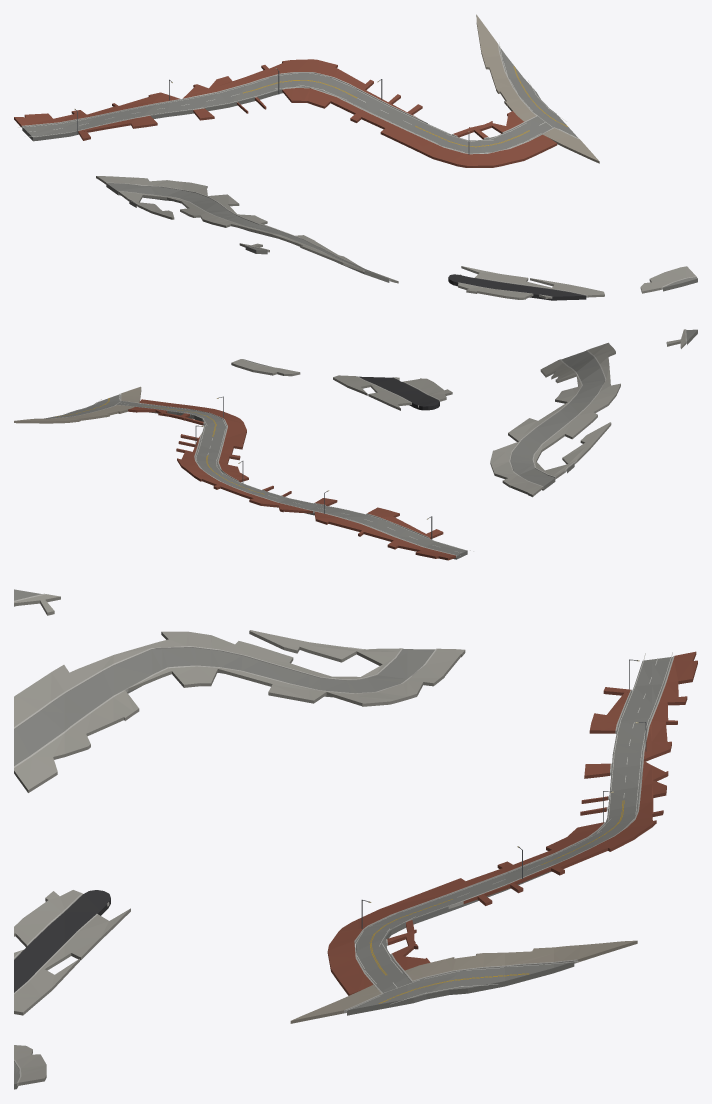
The picture shows the model from 3 angles, top to bottom: view 1: azimuth 30°, elevation 25°; view 2: azimuth 150°, elevation 25°; view 3: azimuth 270°, elevation 25°; orthographic projection. The views are drawn at different scales.
Size of the model in its own units: 150 by 44.6 by 140.
